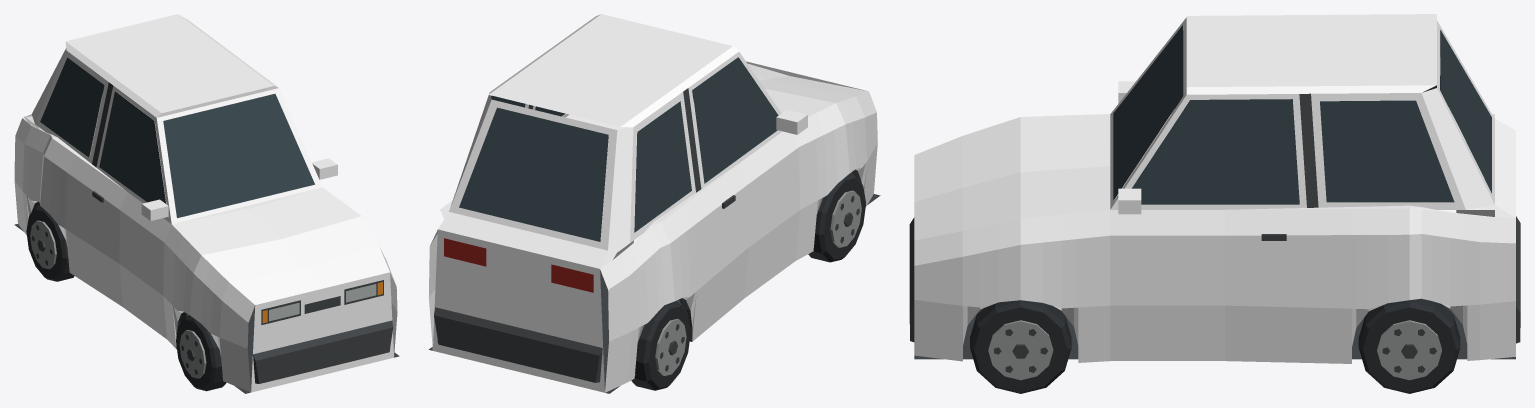
The model's file is kosame_mozu.glb.
3 views of the same model, side by side, from view 1: azimuth 30°, elevation 25°; view 2: azimuth 150°, elevation 25°; view 3: azimuth 270°, elevation 25° (orthographic). The views are drawn at different scales.
Visible parts, largest first — view 1: kosame_mozu; view 2: kosame_mozu; view 3: kosame_mozu.
Boxes of the visible parts, x1,y1,x2,y2 form: kosame_mozu: (14, 14, 399, 393); kosame_mozu: (428, 14, 880, 393); kosame_mozu: (909, 14, 1520, 393).
Size of the model in its own units: 1.45 by 1.66 by 3.16.
Materials: 8 (1 with a texture image).
